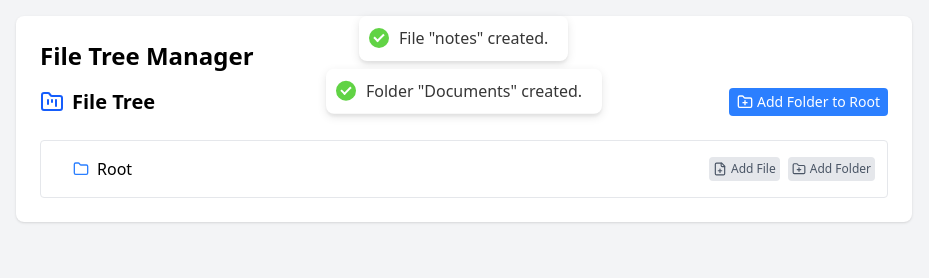
it: Rename Operations › should rename a folder
The image size is (929, 278).
# Create a folder
Click the button "Add Folder to Root" at point(808, 102), box [729,88,888,116]
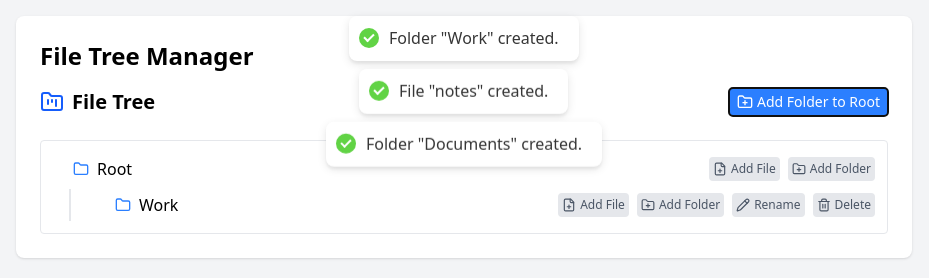
Click the button "Rename" at point(768, 205), box [732,193,804,217]
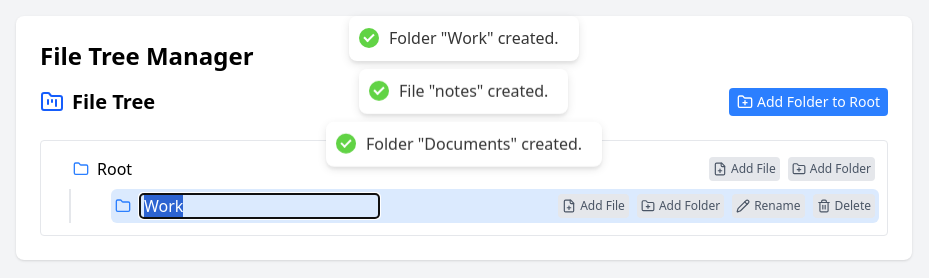
Replace the text in the field showing "Work" with "Office" at point(260, 206), box [139,193,380,219]
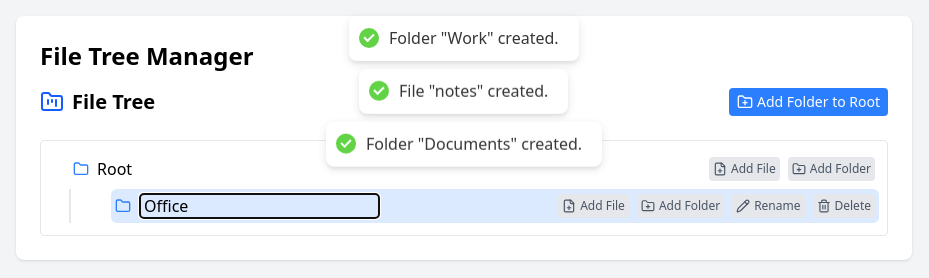
Press Enter
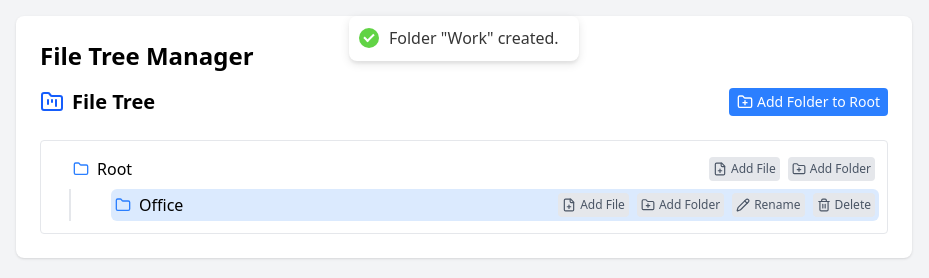
Result: the text "Office" is shown at [139,193,183,217]
